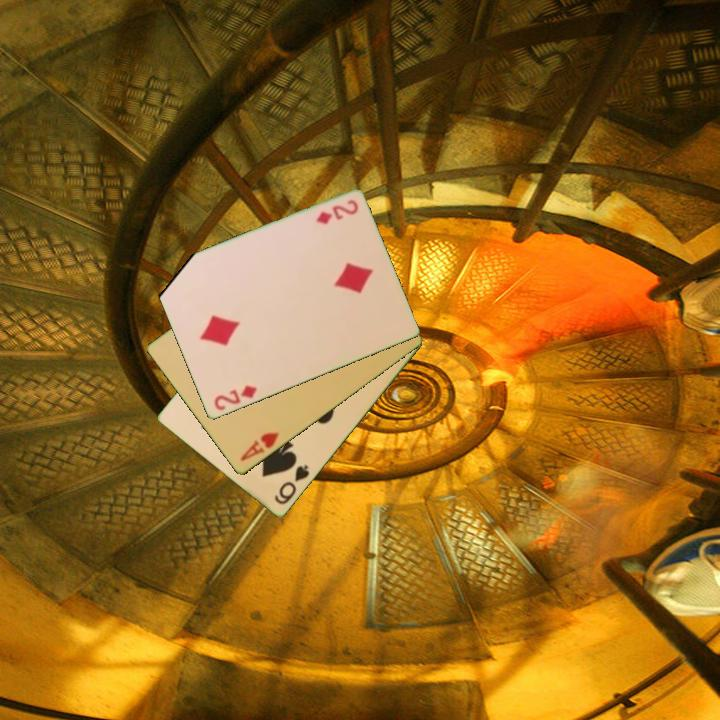2d: (210, 382, 259, 414), (312, 197, 361, 227)
6s: (271, 462, 313, 508)
Ah: (236, 429, 282, 465)
